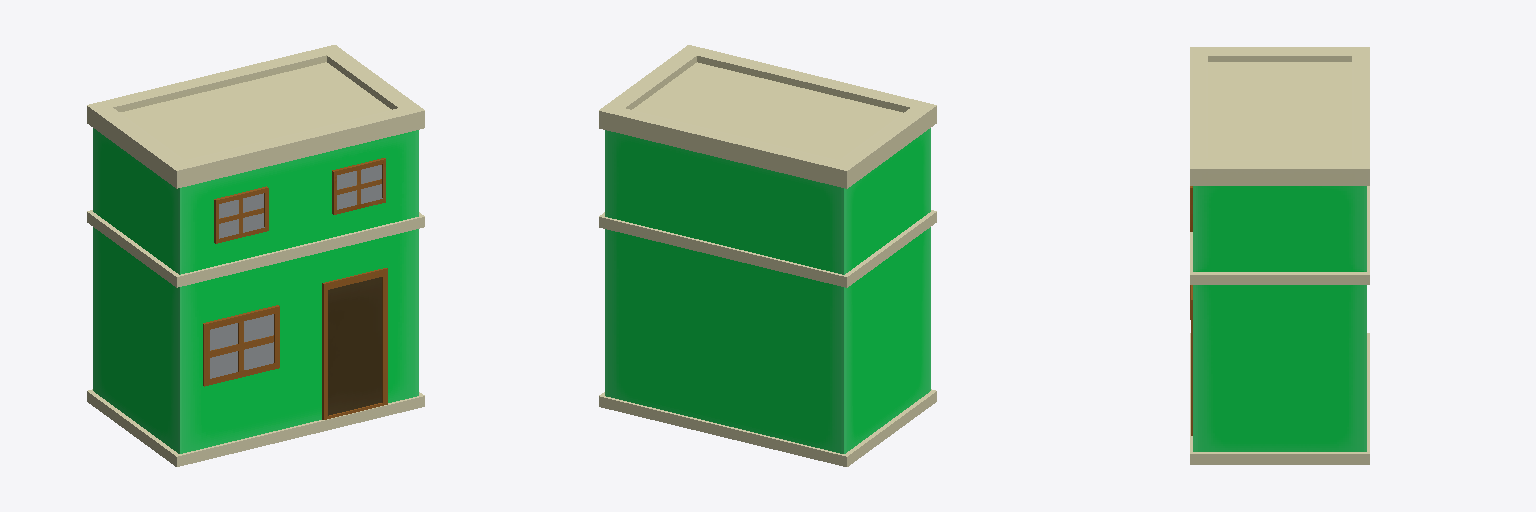
3 views of the same model, side by side, from view 1: azimuth 30°, elevation 25°; view 2: azimuth 150°, elevation 25°; view 3: azimuth 270°, elevation 25° (orthographic).
Parts seen in each view (by area): view 1: Cube, Cube.1, Cube.5, Cube.2, Cube.3, Cube.18_2, Cube.19_2, Cube.18, Cube.18_1, Cube.19_1, Cube.19; view 2: Cube, Cube.1, Cube.2, Cube.3; view 3: Cube, Cube.1, Cube.3, Cube.2.
Part boxes in pixels (x1,y1,x2,y2): Cube: (93, 128, 418, 453); Cube.1: (87, 45, 424, 188); Cube.5: (322, 268, 387, 419); Cube.2: (87, 210, 424, 287); Cube.3: (87, 389, 424, 466); Cube.18_2: (210, 314, 273, 378); Cube.19_2: (203, 305, 279, 386); Cube.18: (337, 165, 382, 209); Cube.18_1: (219, 193, 264, 238); Cube.19_1: (214, 186, 268, 243); Cube.19: (332, 158, 385, 214); Cube: (605, 128, 930, 453); Cube.1: (599, 45, 936, 188); Cube.2: (599, 210, 936, 287); Cube.3: (599, 389, 936, 466); Cube: (1193, 186, 1366, 451); Cube.1: (1190, 47, 1369, 185); Cube.3: (1190, 333, 1369, 464); Cube.2: (1190, 186, 1369, 284).
Bounding box in the file's own units: 178 × 202 × 112.
Materials: 1 (1 with a texture image).